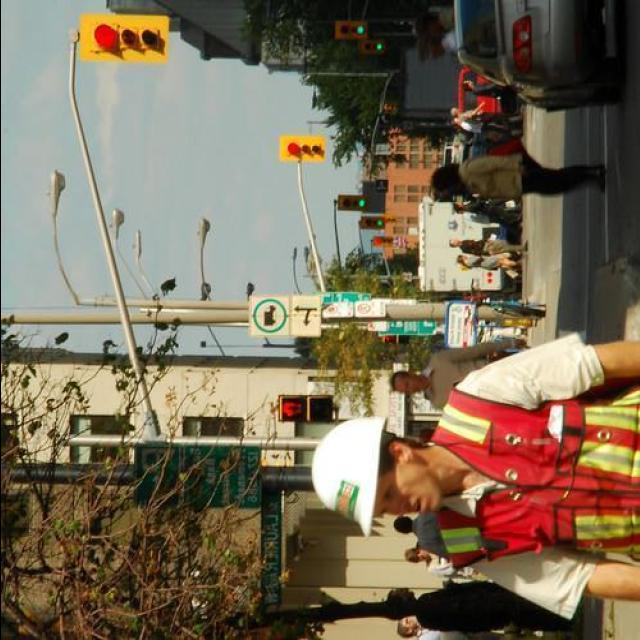helmet: (311, 406, 382, 546)
jacket: (409, 360, 633, 588)
